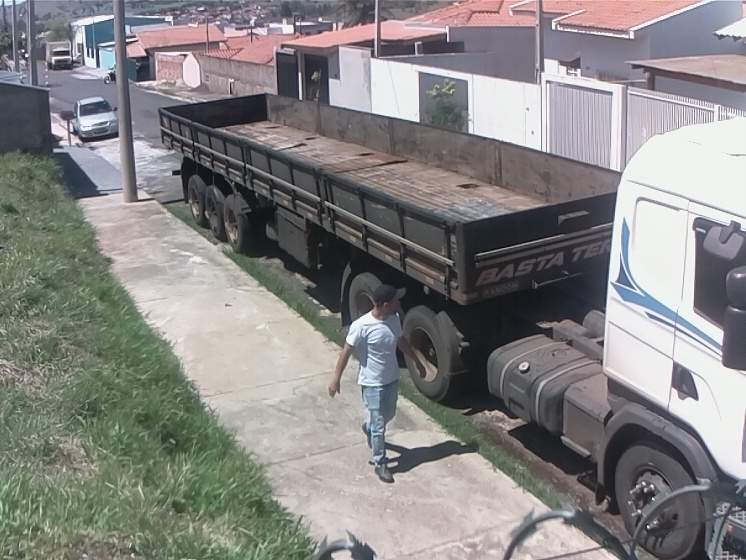person: (327, 280, 429, 487)
